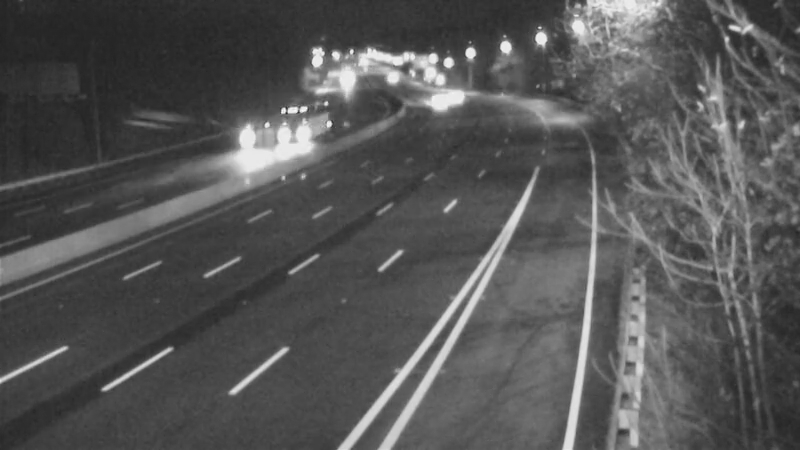vehicle: (367, 51, 417, 101), (426, 71, 476, 121), (406, 77, 456, 127), (218, 117, 268, 167), (262, 109, 312, 159)
